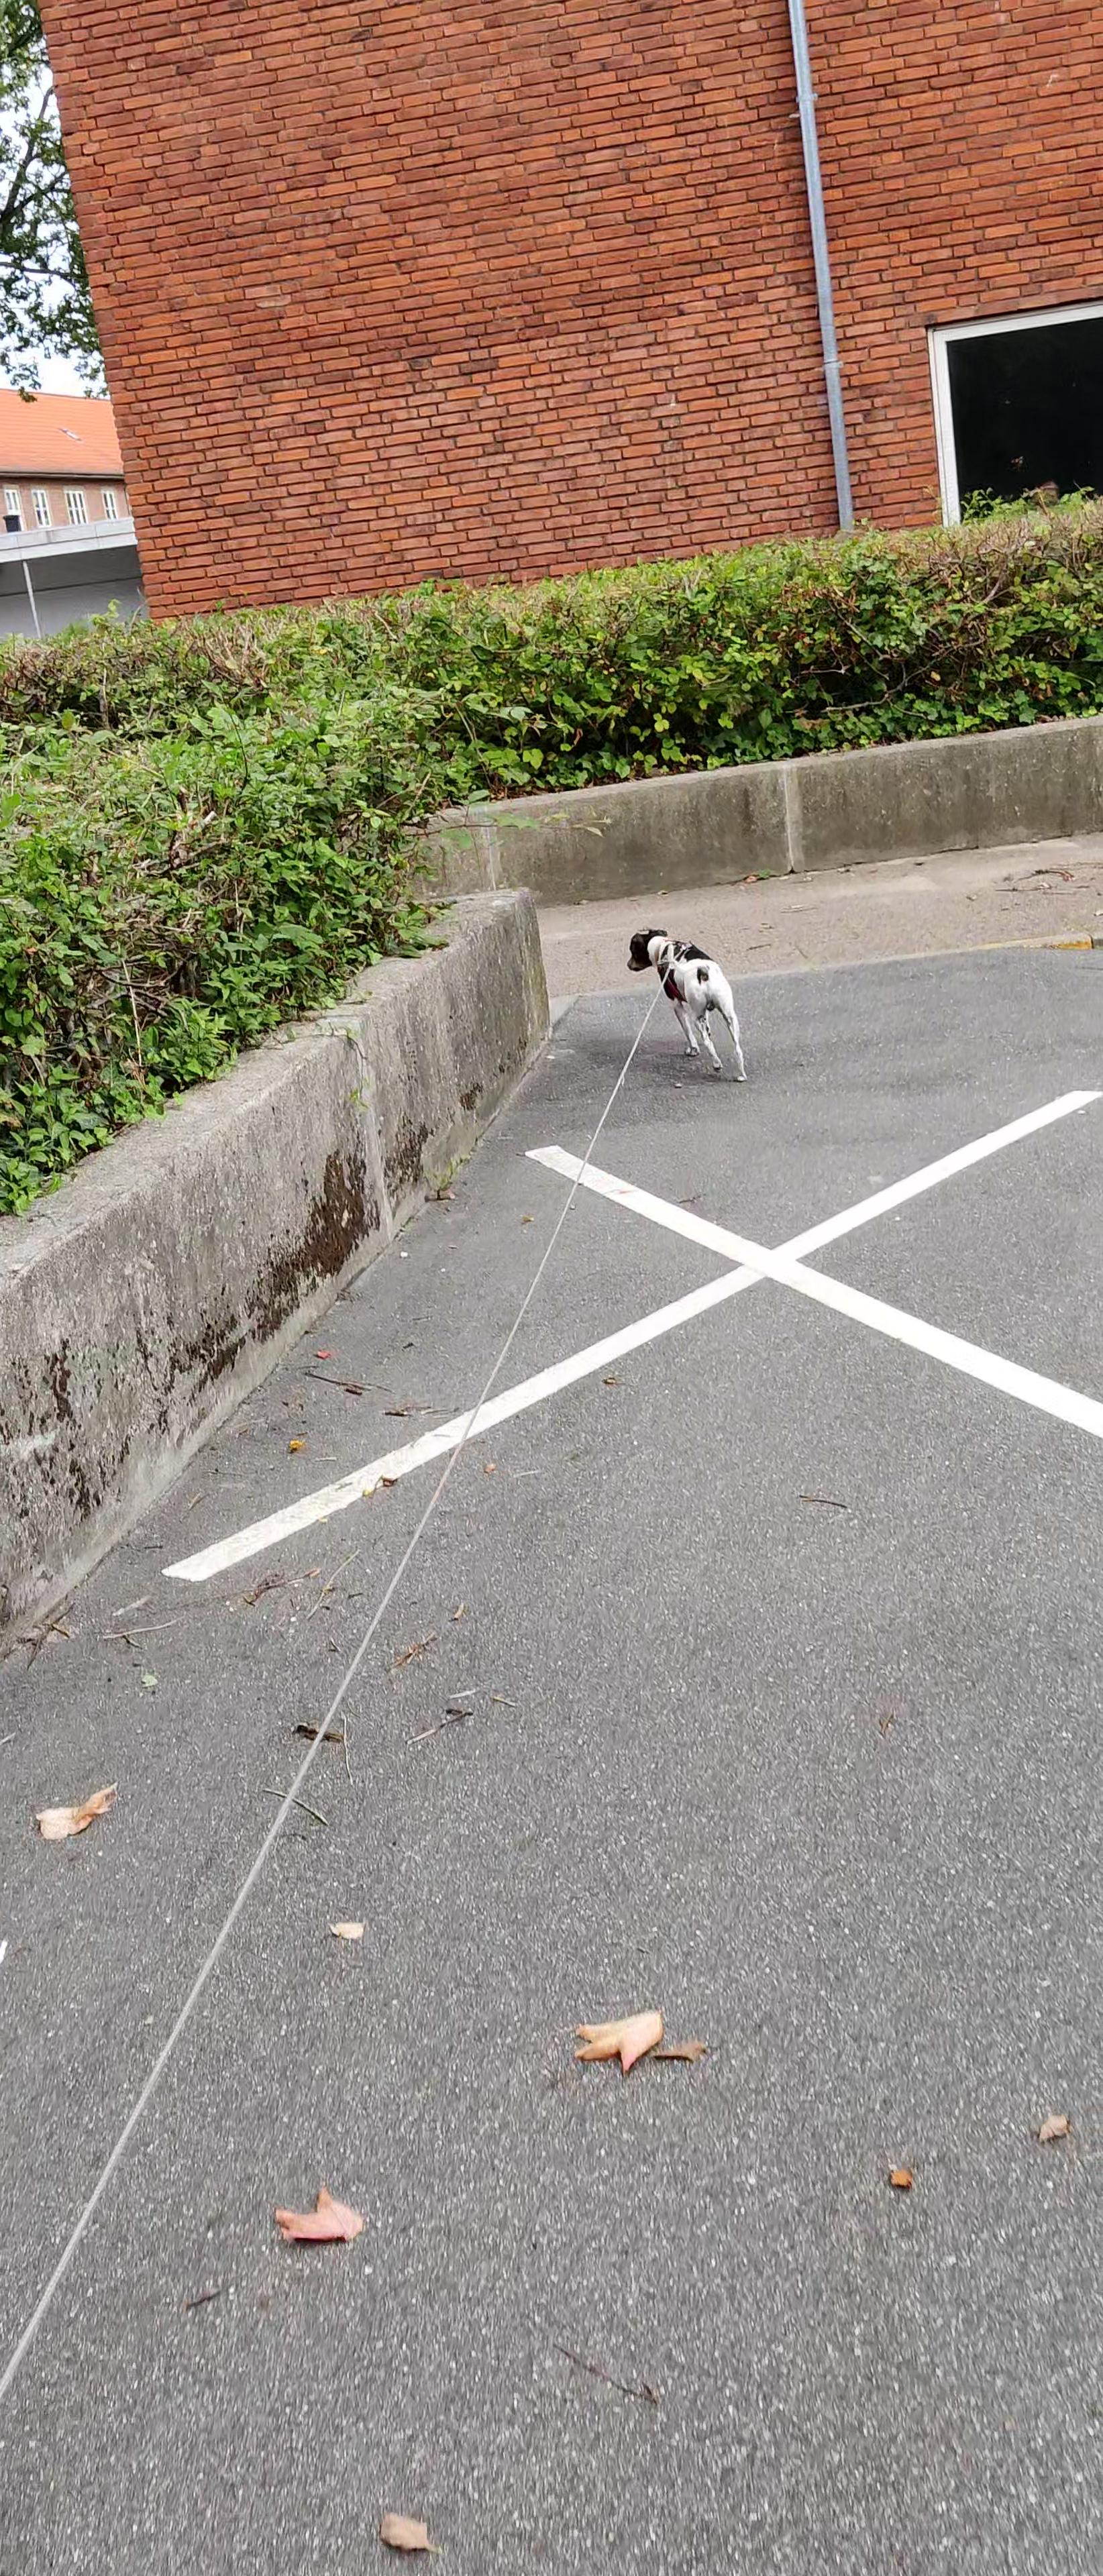Dog: (616, 912, 758, 1091)
